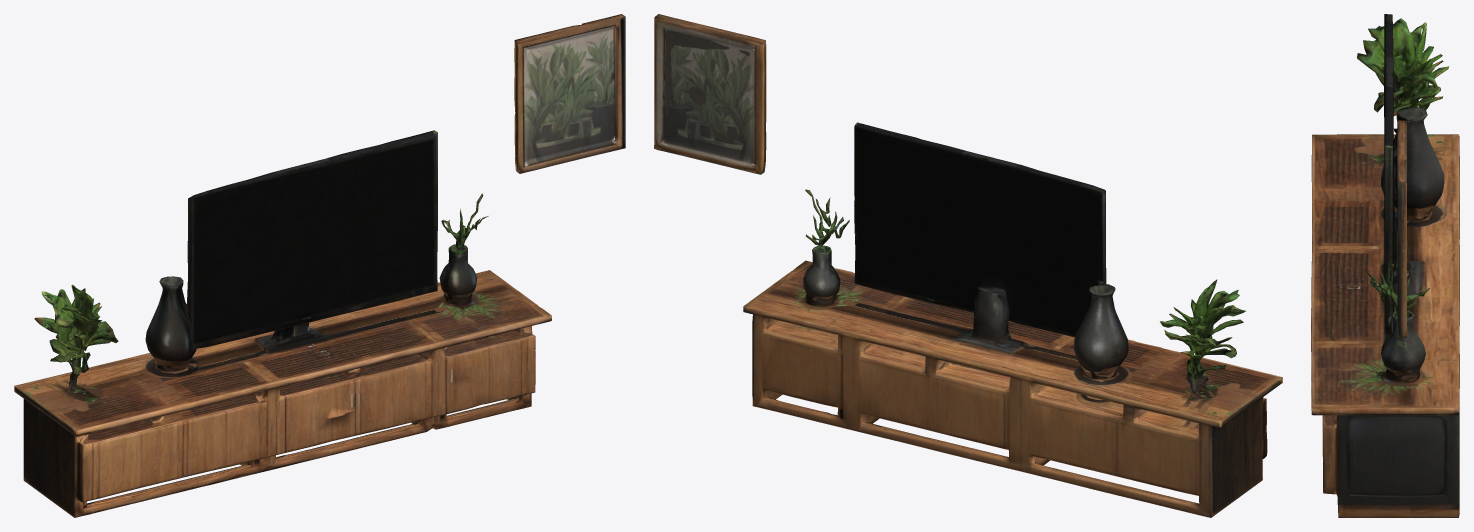
The model's file is Room_1.fbx.
The picture shows the model from 3 angles, left to right: view 1: azimuth 30°, elevation 25°; view 2: azimuth 150°, elevation 25°; view 3: azimuth 270°, elevation 25°; orthographic projection. The views are drawn at different scales.
Visible parts, largest first — view 1: Mesh1; view 2: Mesh1; view 3: Mesh1.
Boxes of the visible parts, <box> form: Mesh1: <box>14,14,625,517</box>; Mesh1: <box>654,14,1282,517</box>; Mesh1: <box>1311,14,1459,517</box>.
Bounding box in the file's own units: 200 × 112 × 37.25.
1 material, 1 textured.
